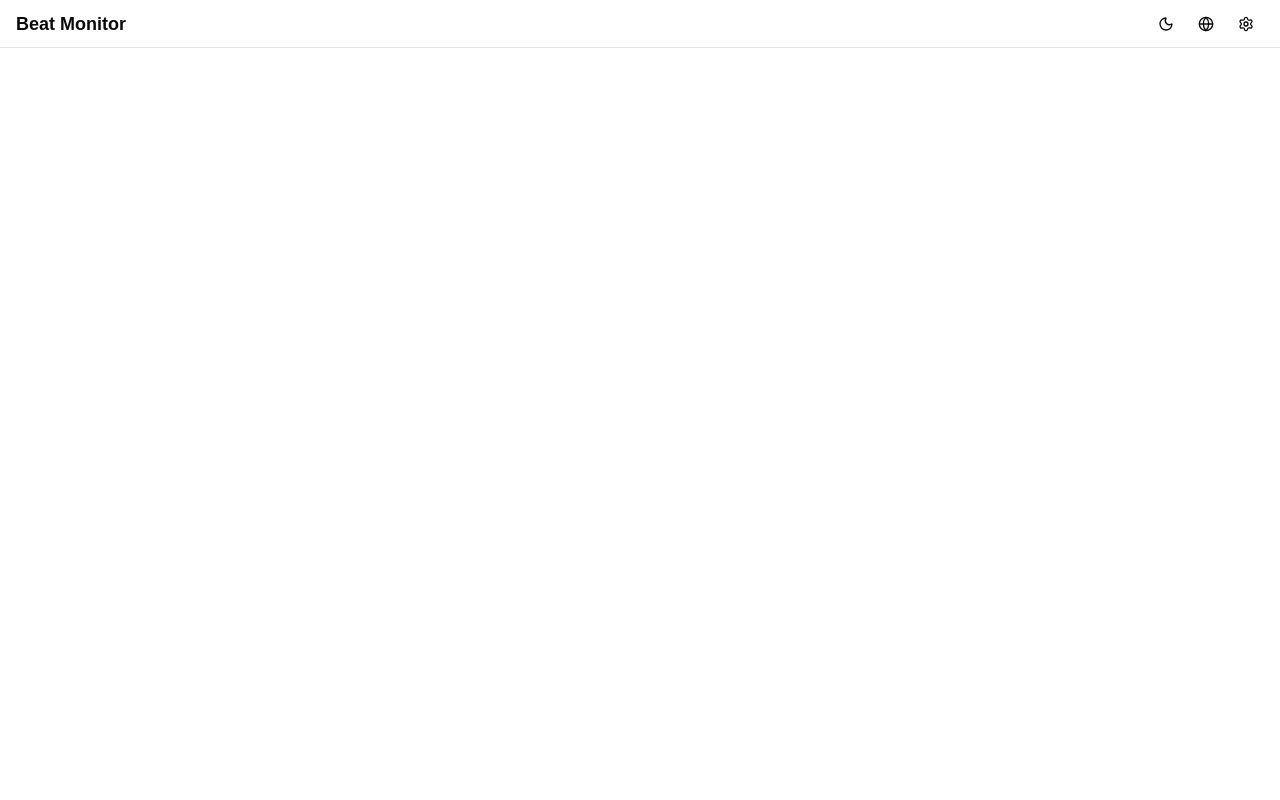
Test: shared components › toggles header theme and locale
This screenshot has width=1280, height=800.
Click the button titled "Theme" at (1166, 24), box [1148,6,1184,42]
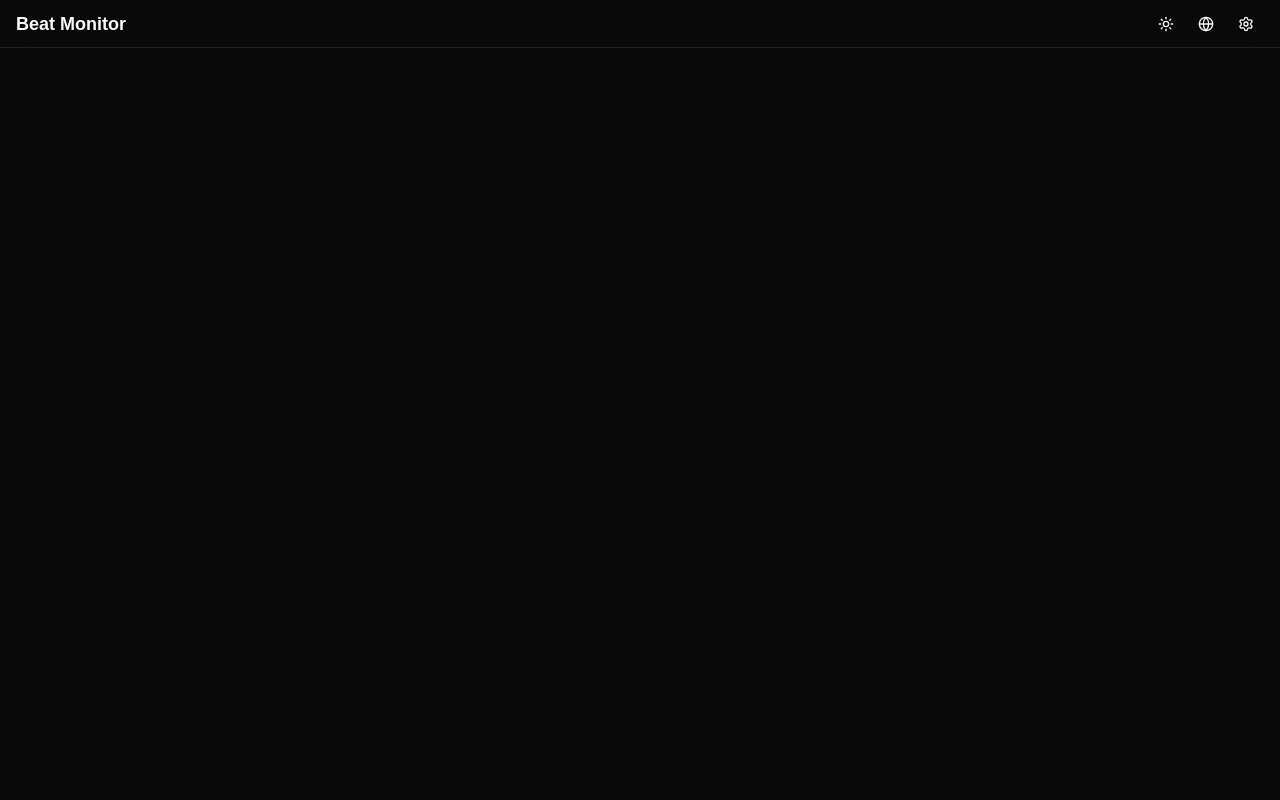
Click the button titled "Language" at (1206, 24), box [1188,6,1224,42]
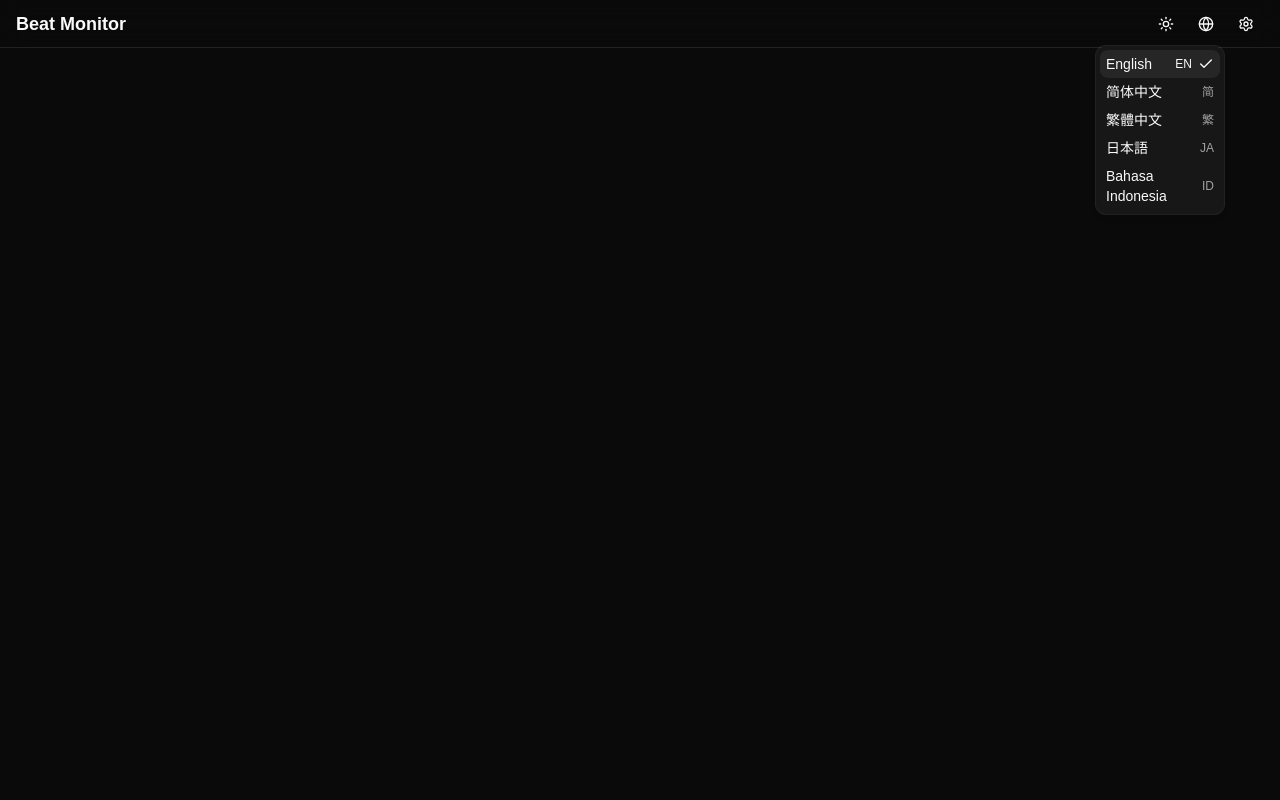
Check: the text "EN" is shown, box [1175,56,1192,72]
